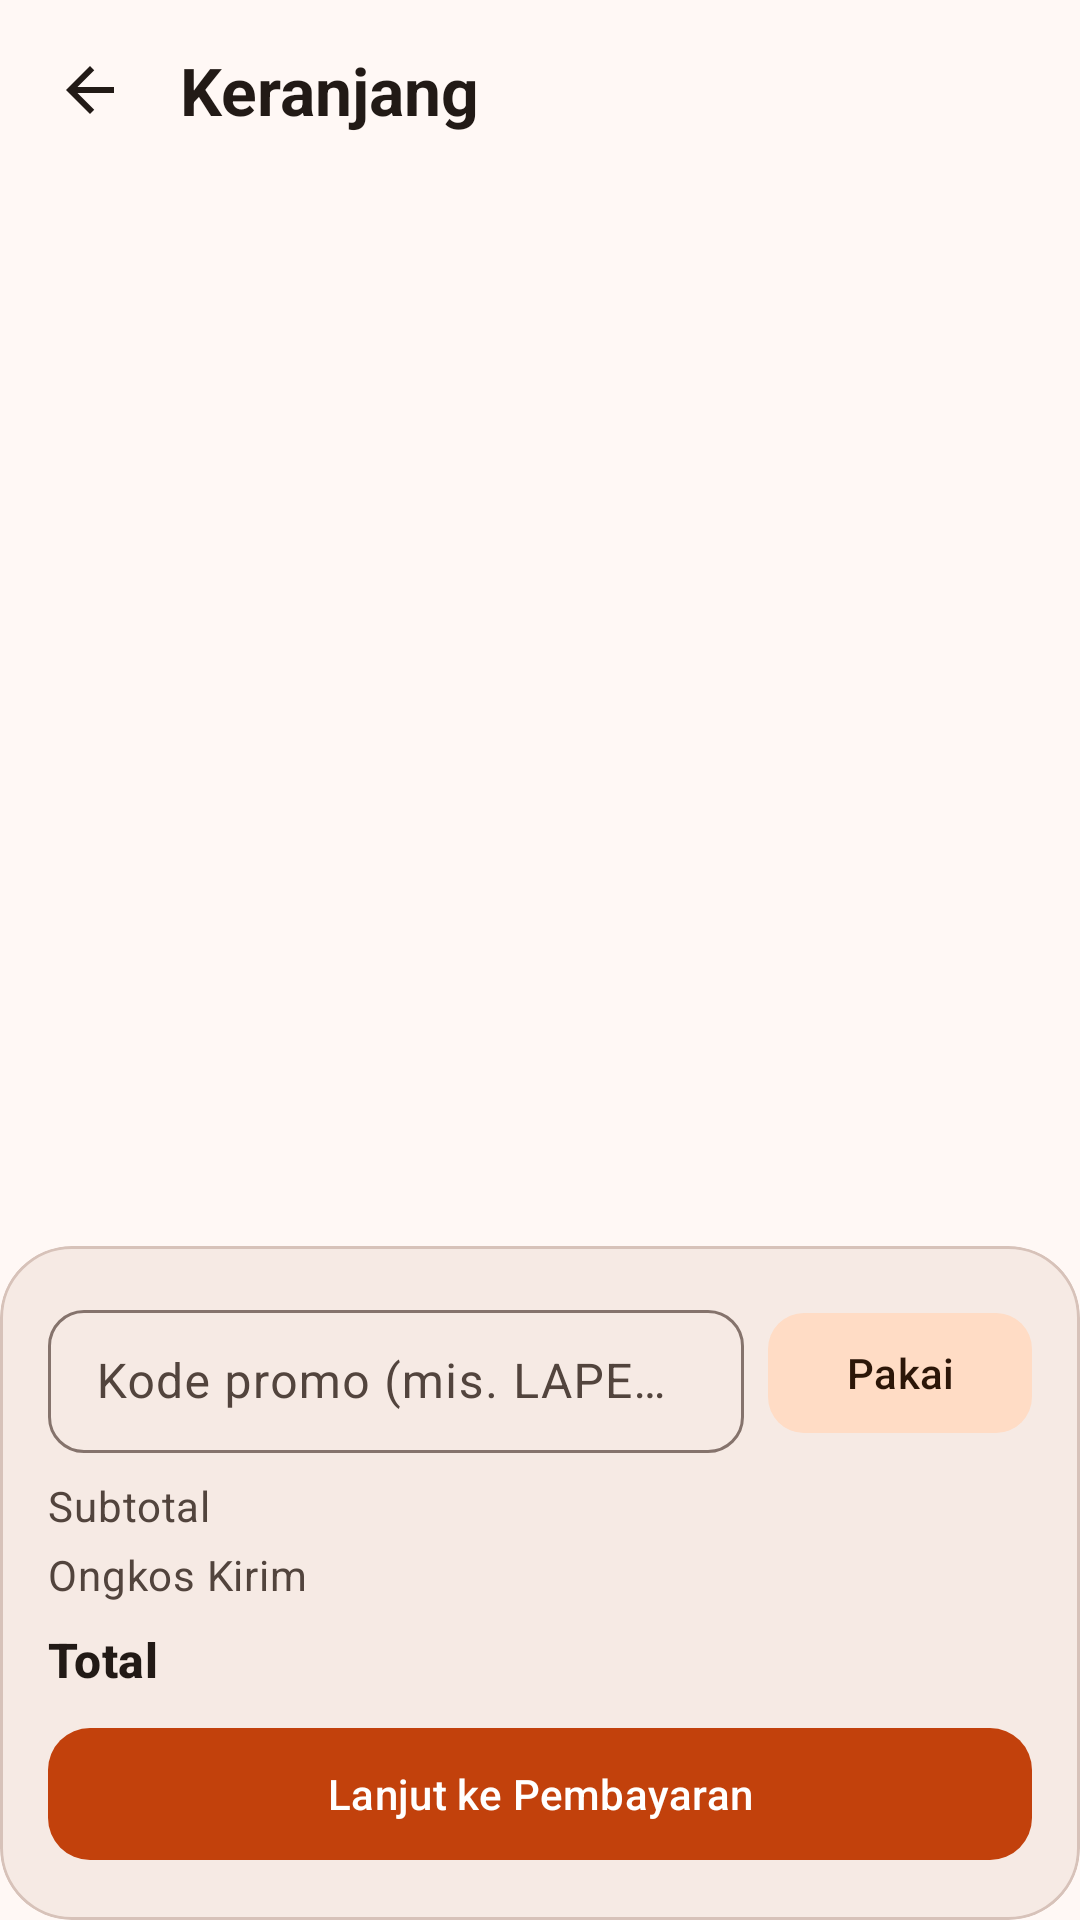

Icons on this 1080w x 1920h Android screen, each with its box as Rect(x1, y1, x2, y2):
Batal: Rect(66, 66, 114, 114)
